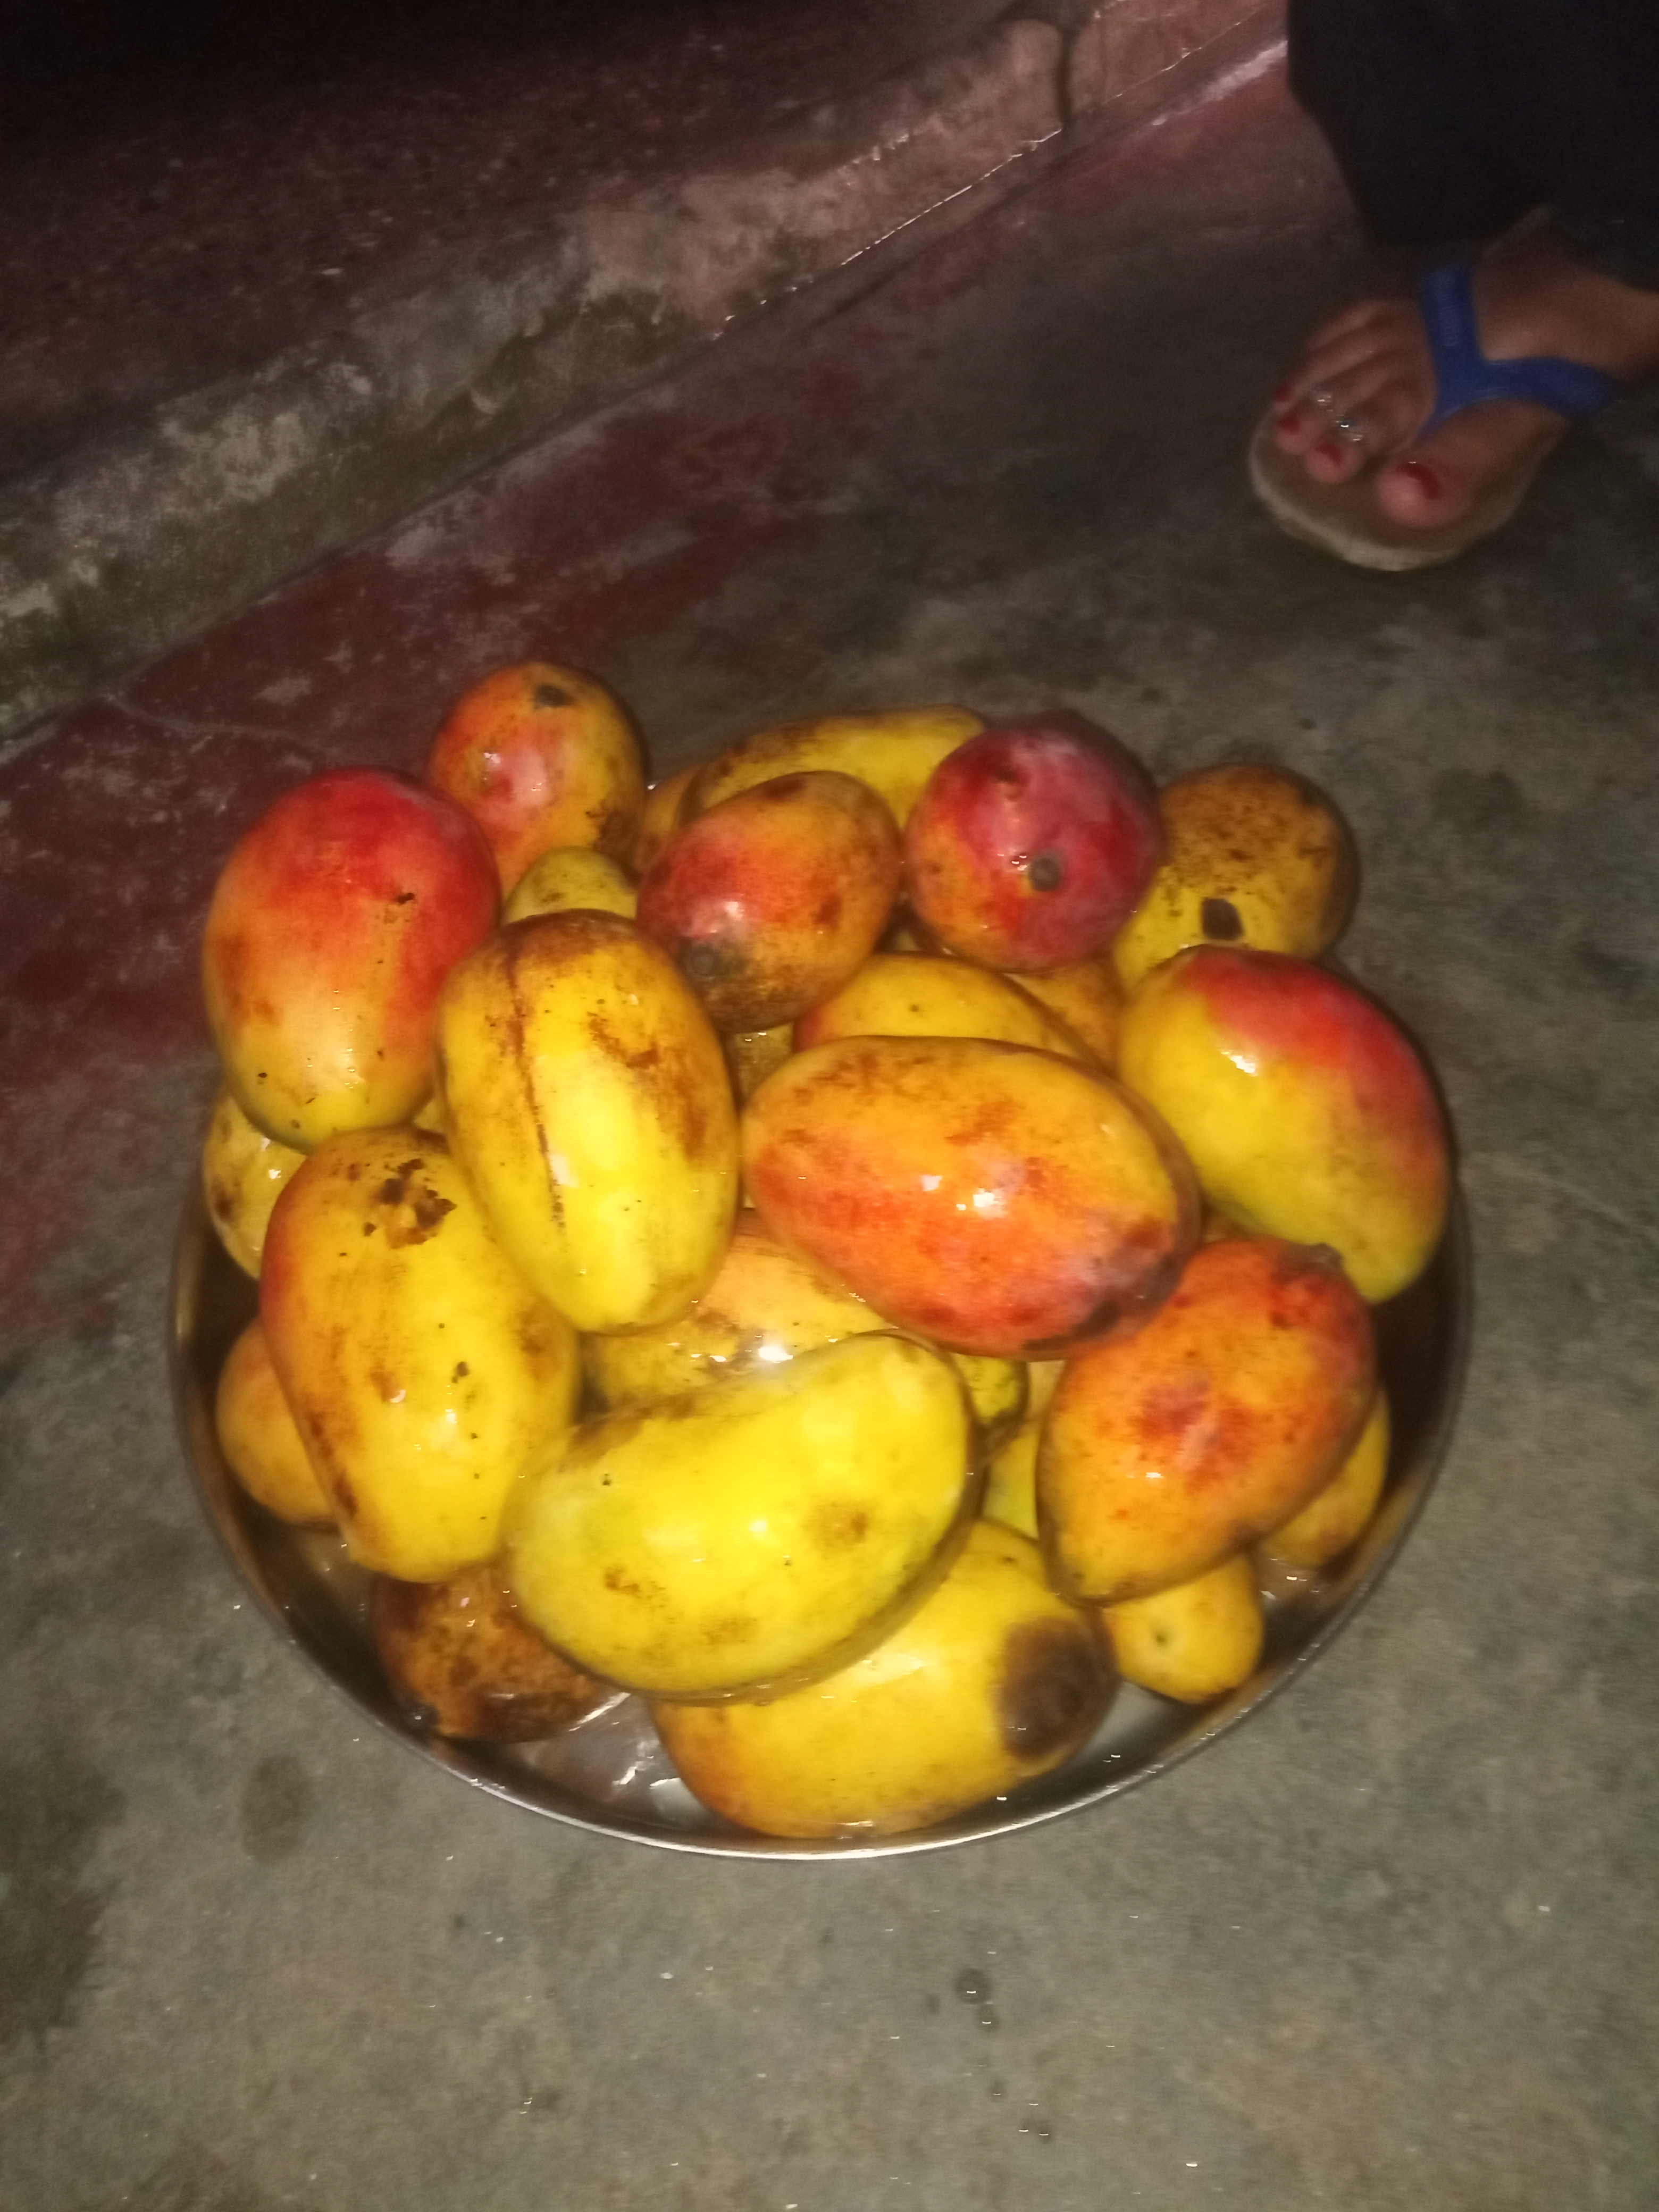food: (190, 639, 1473, 1851)
